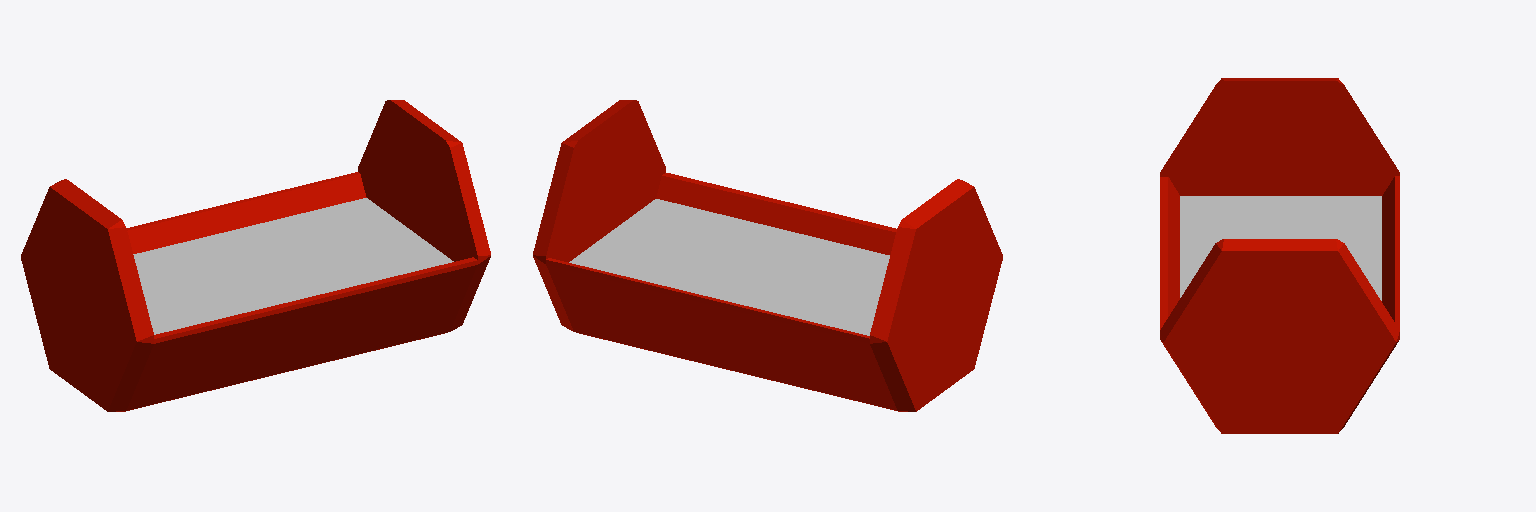
File: SupplyBin.obj
3 views of the same model, side by side, from view 1: azimuth 30°, elevation 25°; view 2: azimuth 150°, elevation 25°; view 3: azimuth 270°, elevation 25° (orthographic).
Visible parts, largest first — view 1: Cylinder, Cube_Cube.001, Cylinder.001_Cylinder.003; view 2: Cylinder, Cube_Cube.001, Cylinder.001_Cylinder.003; view 3: Cylinder.001_Cylinder.003, Cylinder, Cube_Cube.001.
Boxes of the visible parts, box(x1,y1,x2,y2) form: Cylinder: box(21, 172, 490, 411); Cube_Cube.001: box(133, 198, 453, 334); Cylinder.001_Cylinder.003: box(21, 100, 490, 341); Cylinder: box(533, 173, 1002, 411); Cube_Cube.001: box(569, 199, 889, 335); Cylinder.001_Cylinder.003: box(533, 100, 1002, 341); Cylinder.001_Cylinder.003: box(1160, 78, 1399, 342); Cylinder: box(1160, 176, 1399, 433); Cube_Cube.001: box(1180, 196, 1381, 300).
Bounding box in the file's own units: 2 × 1.04 × 1.17.